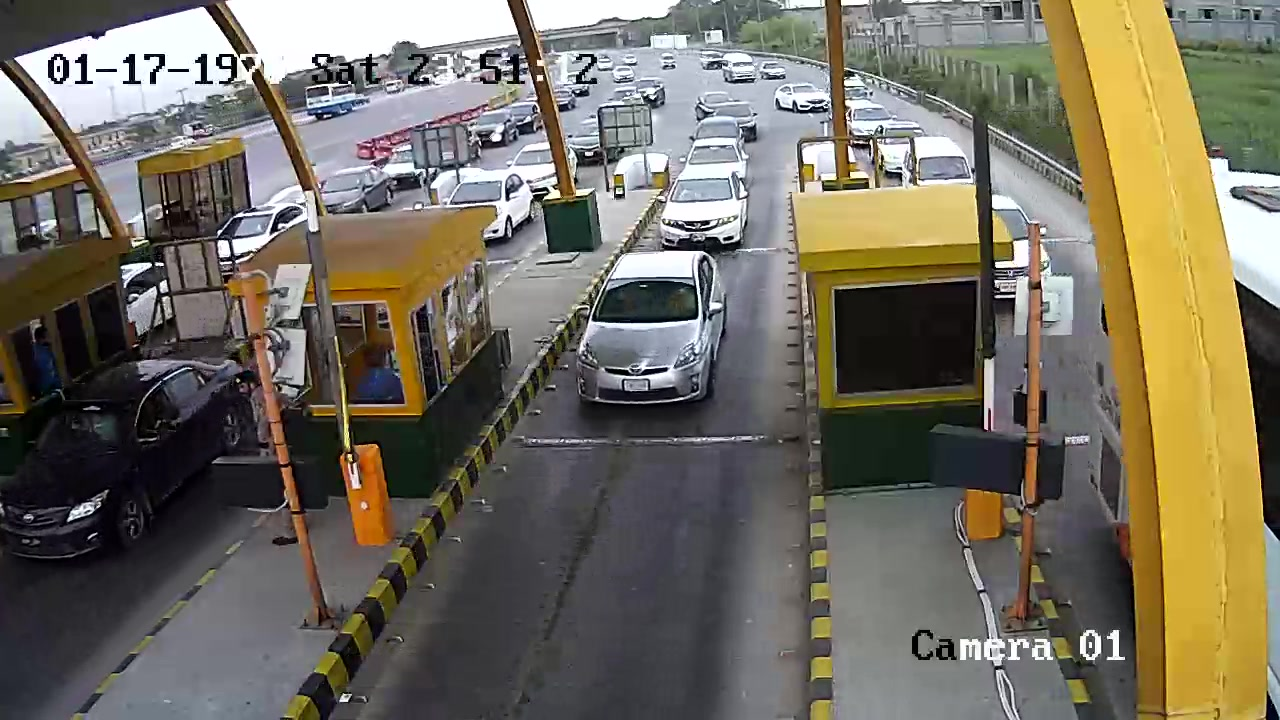F1: (556, 247, 755, 425)
